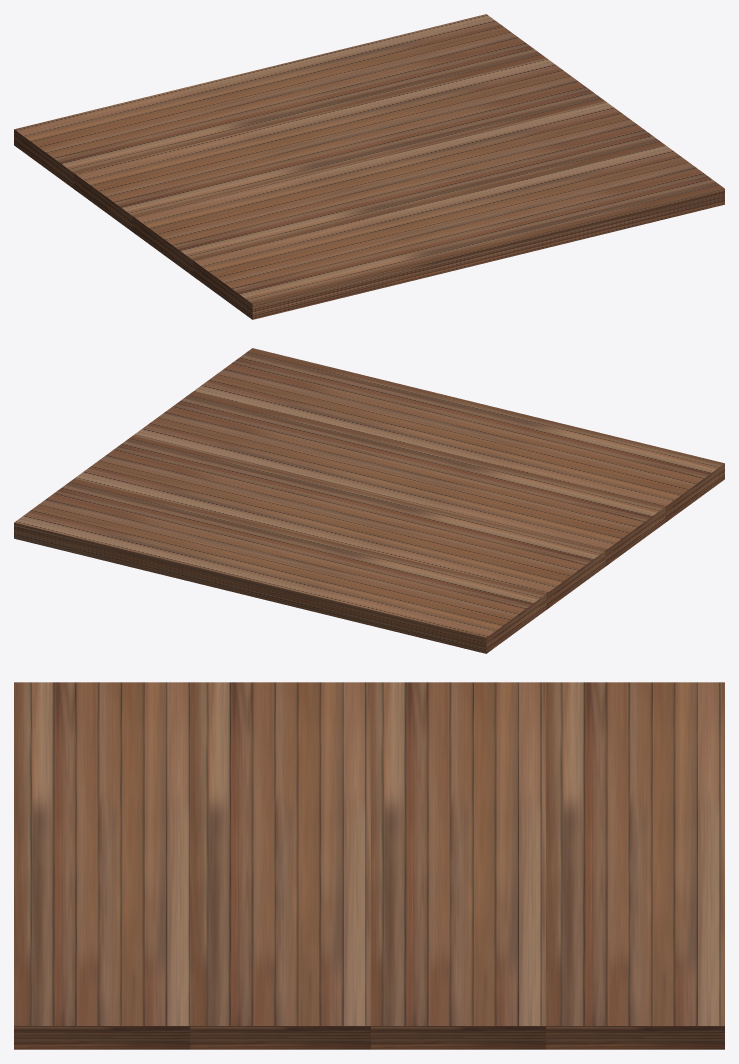
File: floor.fbx
3 renders of one model, top to bottom at view 1: azimuth 30°, elevation 25°; view 2: azimuth 150°, elevation 25°; view 3: azimuth 270°, elevation 25°, orthographic. The views are drawn at different scales.
Visible parts, largest first — view 1: pCube15; view 2: pCube15; view 3: pCube15.
Boxes of the visible parts, x1=… form: pCube15: x1=14, y1=14, x2=724, y2=319; pCube15: x1=14, y1=348, x2=724, y2=653; pCube15: x1=14, y1=682, x2=724, y2=1049.
Bounding box in the file's own units: 30.88 × 1 × 27.01.
